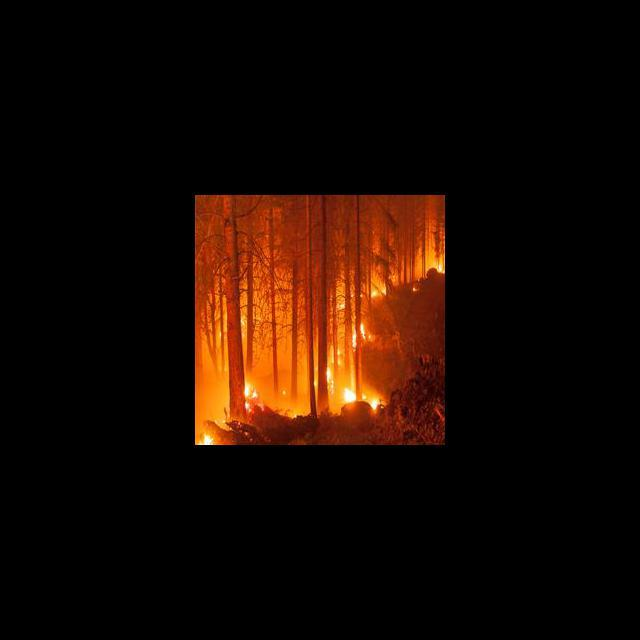Fire: (342, 380, 385, 404), (324, 350, 342, 390), (244, 377, 262, 412), (196, 430, 216, 444), (361, 323, 372, 340), (371, 288, 386, 298), (351, 330, 356, 347), (436, 264, 444, 273)
